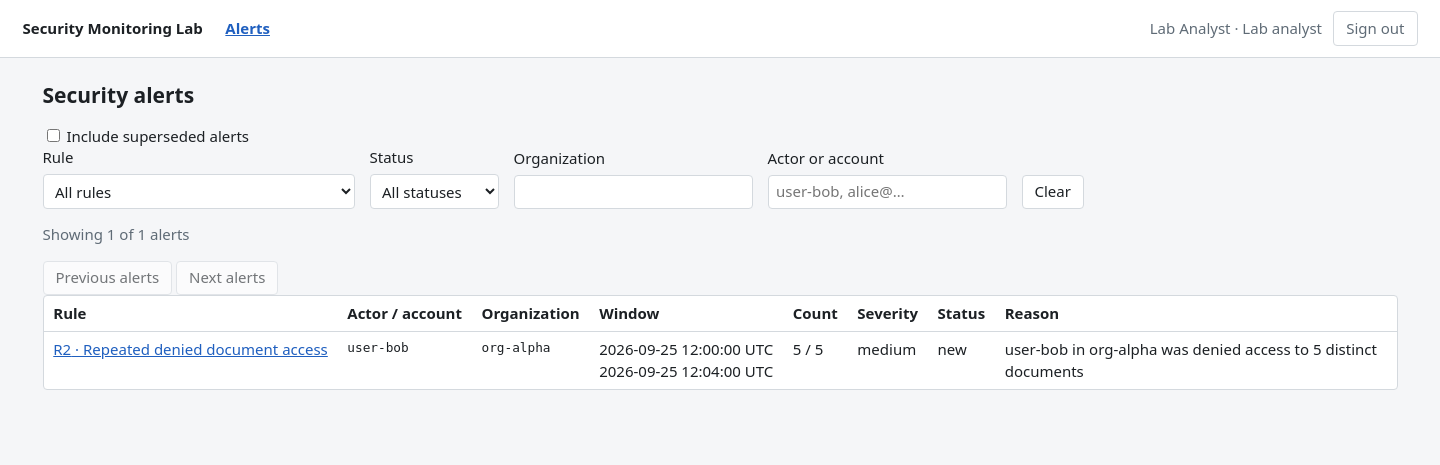
Test: analyst investigation › shows superseded results only when history is requested
The width and height of the screenshot is (1440, 465).
Check: the text "Showing 1 of 1 alerts" is shown, box [42, 224, 190, 244]
Click the checkbox labelled "Include superseded alerts" at (53, 135), box [46, 129, 60, 142]
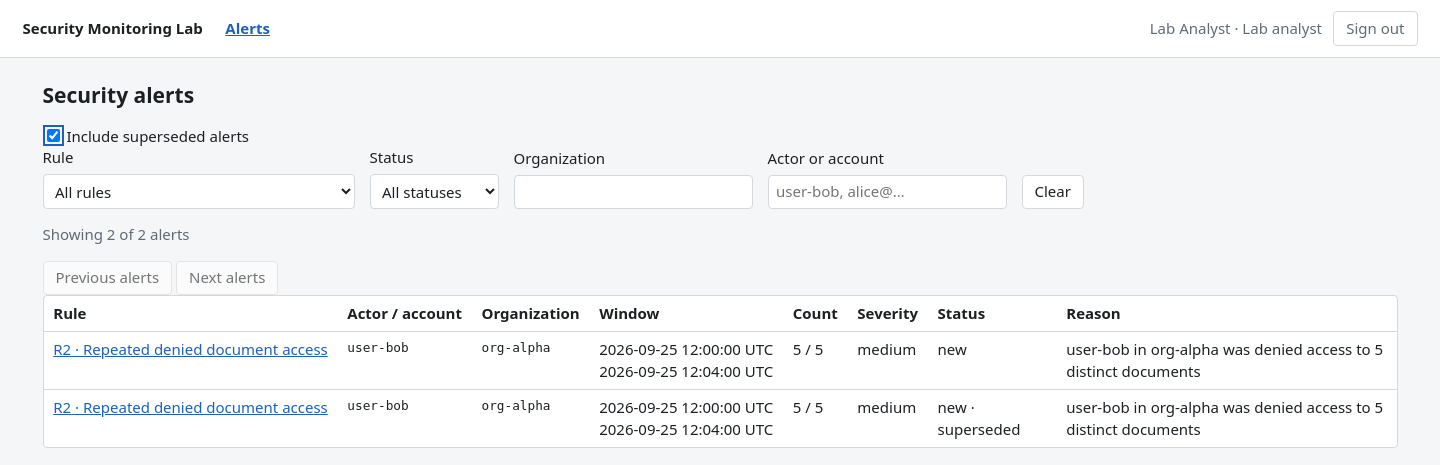
Check: the text "Showing 2 of 2 alerts" is shown, box [42, 224, 190, 244]
Check: the text "new · superseded" is shown, box [928, 390, 1056, 447]
